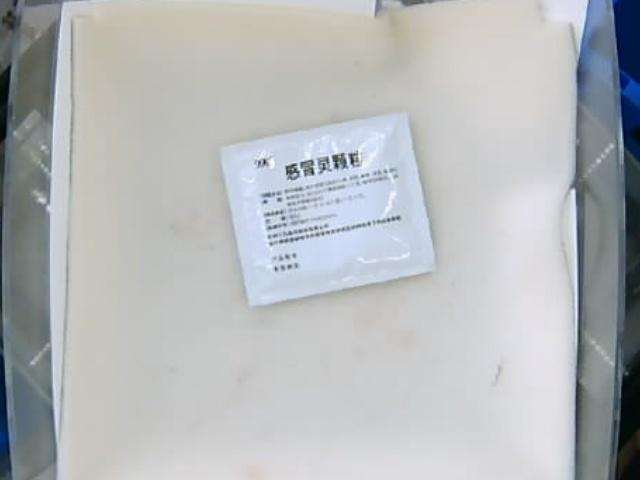Medicine: (213, 115, 437, 313)
